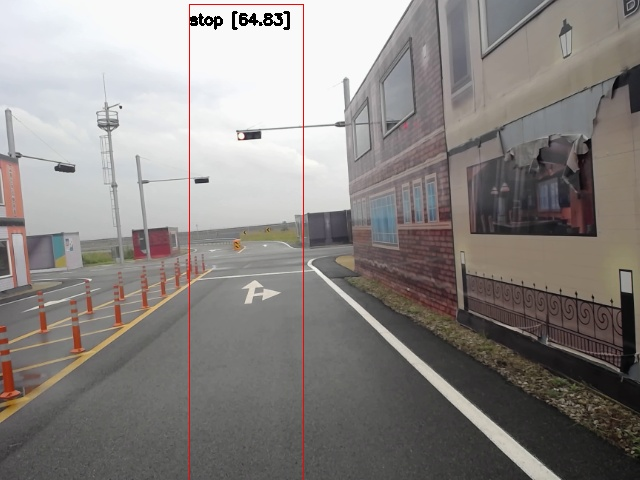red_3: (236, 130, 262, 141)
